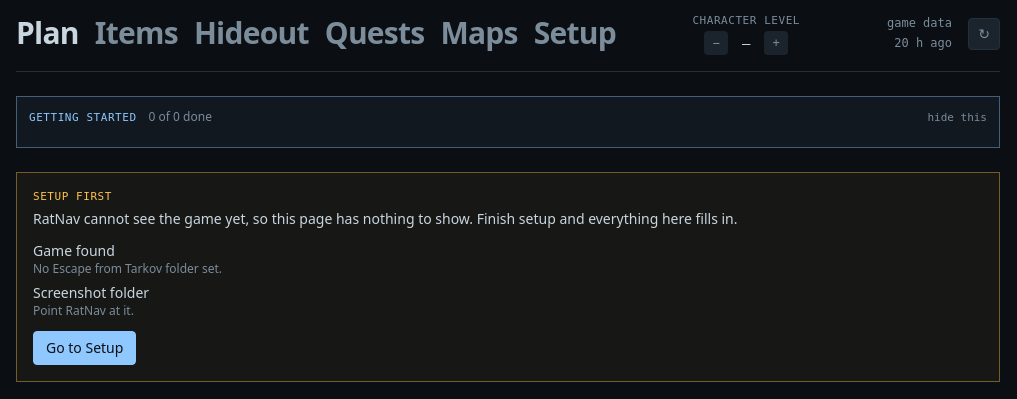
Test: when setup is not finished › offers a way to the page that fixes it
Click the button "Go to Setup".
click(85, 348)  # box [33,331,136,365]
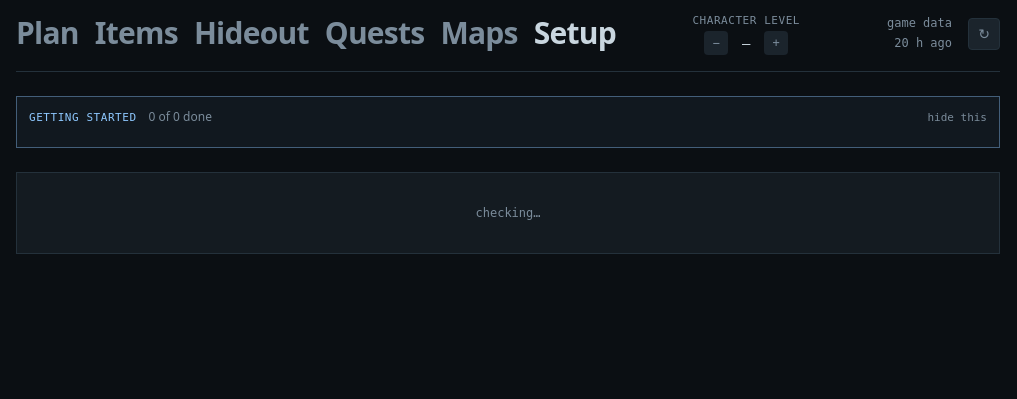
Result: the text "RatNav cannot see the game yet" is gone
